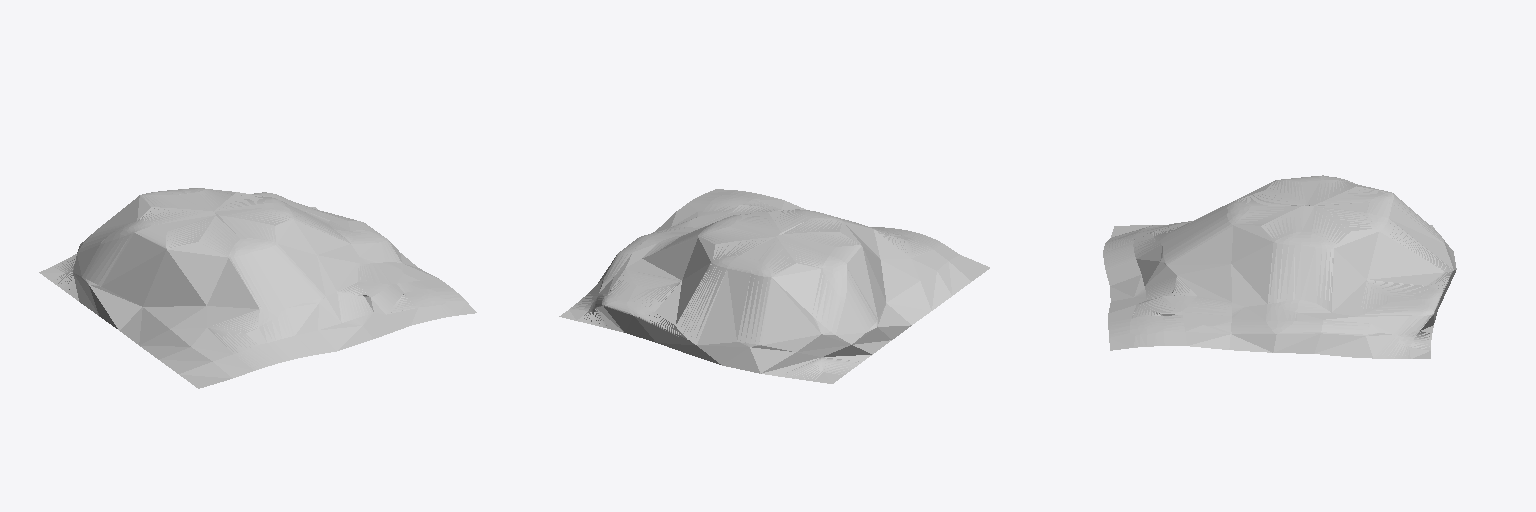
The model's file is mountain.obj.
3 renders of one model, left to right at view 1: azimuth 30°, elevation 25°; view 2: azimuth 150°, elevation 25°; view 3: azimuth 270°, elevation 25°, orthographic.
Parts seen in each view (by area): view 1: Plane; view 2: Plane; view 3: Plane.
Part boxes in pixels (bbox=[...]): Plane: bbox=[39, 188, 476, 388]; Plane: bbox=[559, 189, 989, 383]; Plane: bbox=[1103, 175, 1456, 358].
Size of the model in its own units: 10.28 by 2.67 by 11.17.